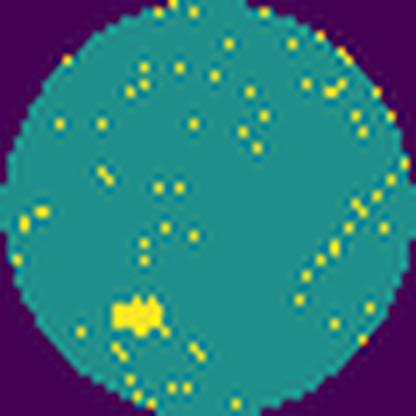Loc: (107, 291, 172, 343)
